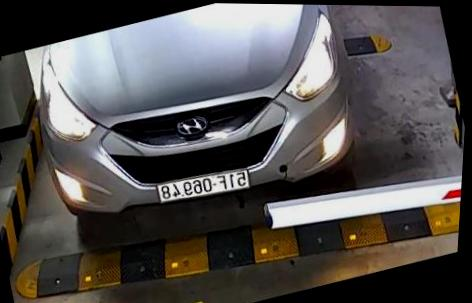License_Plate: (152, 165, 249, 209)
